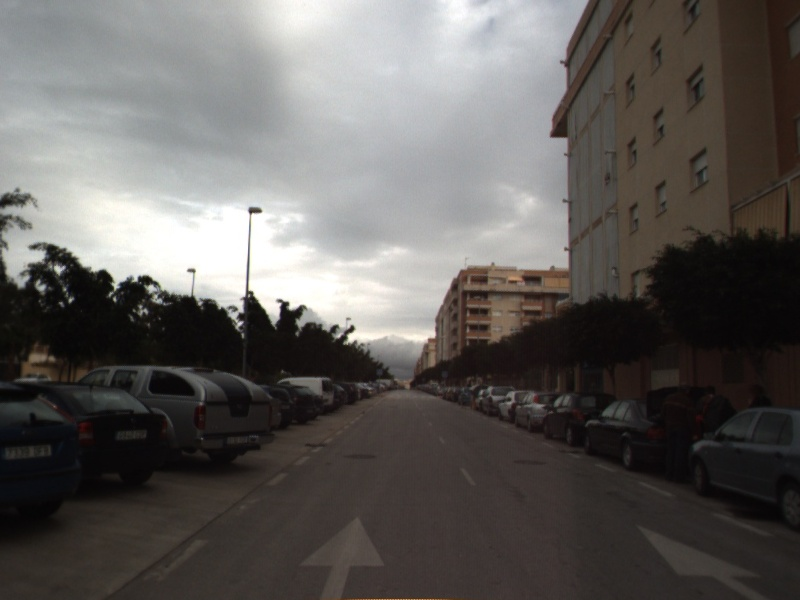STRAIGHT: (632, 522, 774, 600), (296, 514, 387, 600)
